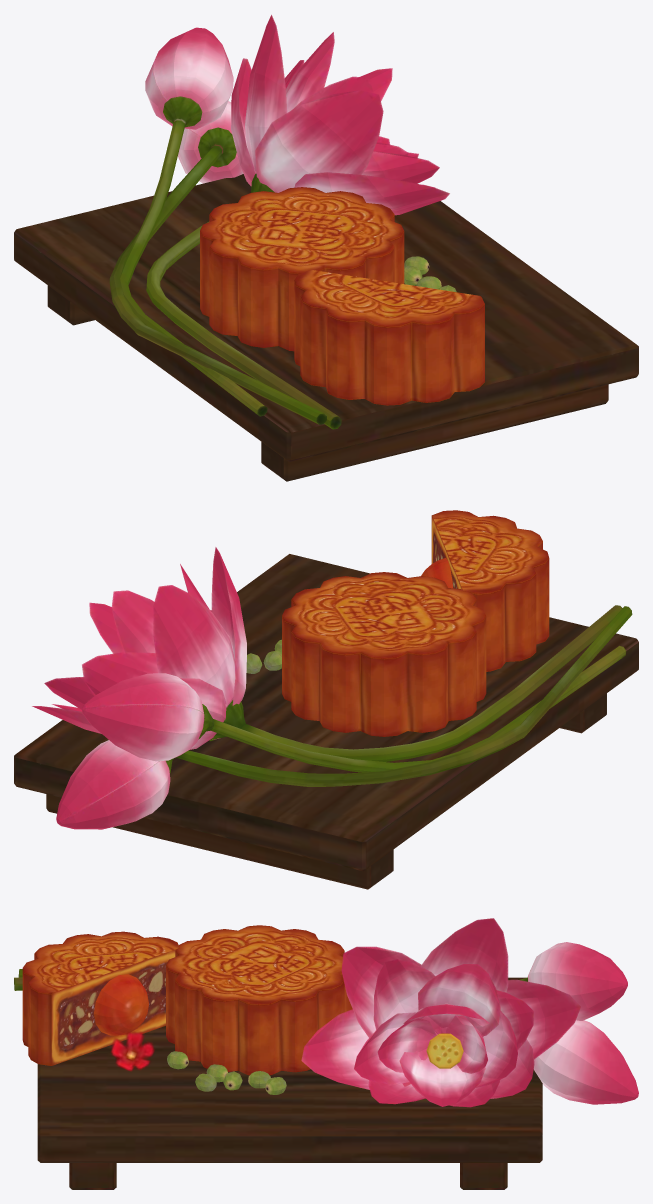
File: in_mooncake.glb
3 views of the same model, one above another, from view 1: azimuth 30°, elevation 25°; view 2: azimuth 150°, elevation 25°; view 3: azimuth 270°, elevation 25° (orthographic). The views are drawn at different scales.
Parts seen in each view (by area): view 1: Cube_Mooncake_Lotus_0, Circle.006_Mooncake_0; view 2: Cube_Mooncake_Lotus_0, Circle.006_Mooncake_0; view 3: Cube_Mooncake_Lotus_0, Circle.006_Mooncake_0.
Part boxes in pixels (x1,y1,x2,y2): Cube_Mooncake_Lotus_0: (14, 15, 638, 481); Circle.006_Mooncake_0: (200, 187, 484, 405); Cube_Mooncake_Lotus_0: (14, 547, 638, 889); Circle.006_Mooncake_0: (282, 510, 549, 736); Cube_Mooncake_Lotus_0: (14, 918, 638, 1189); Circle.006_Mooncake_0: (22, 925, 352, 1075).
Bounding box in the file's own units: 0.3144 × 0.199 × 0.5.
Materials: 2 (2 with a texture image).
